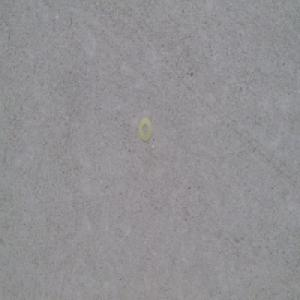Washer: (137, 117, 151, 144)
